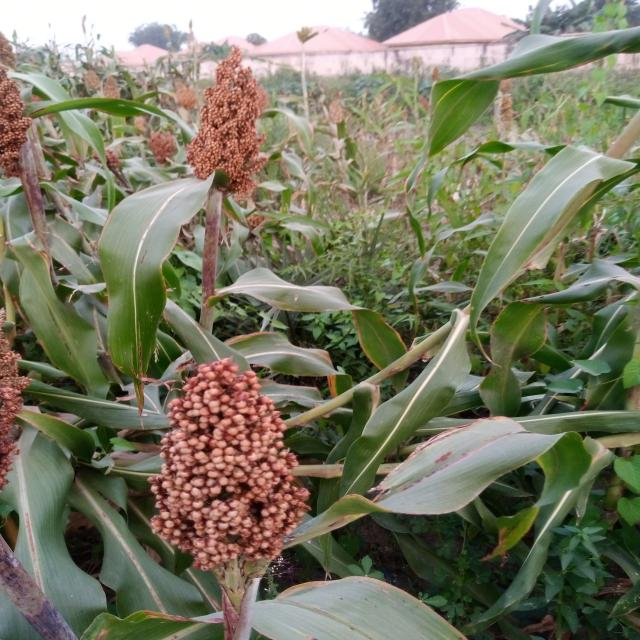RipeSorghum: (122, 353, 340, 575), (183, 39, 302, 196)
